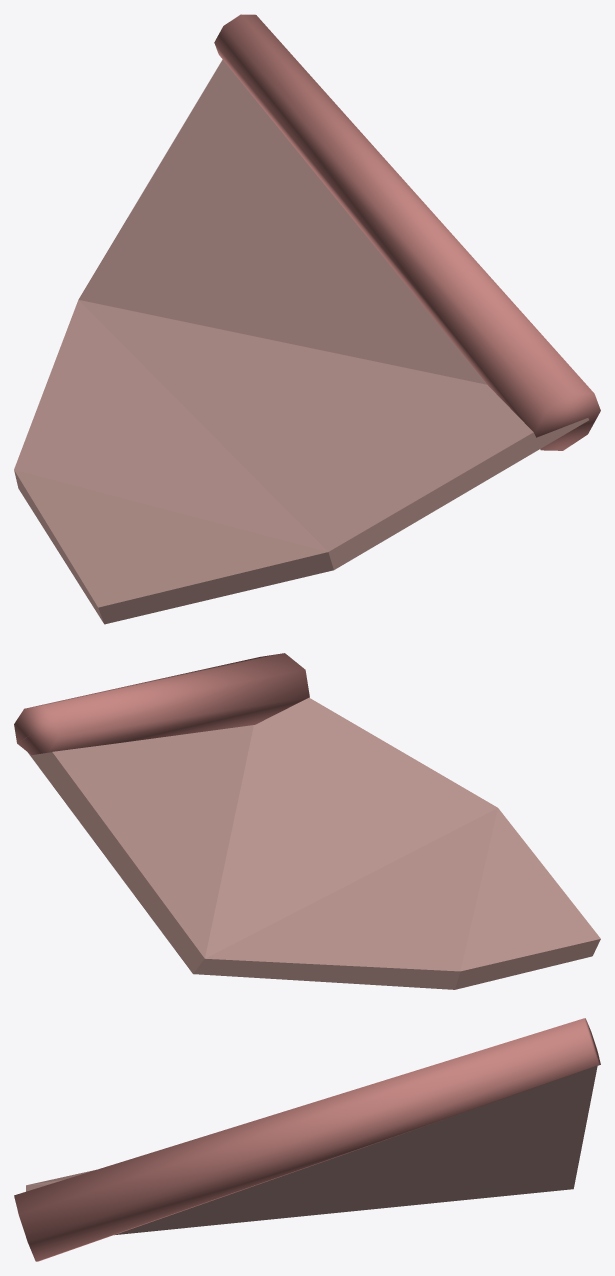
Rendered from bat_wing_in_L.glb.
3 views of the same model, one above another, from view 1: azimuth 30°, elevation 25°; view 2: azimuth 150°, elevation 25°; view 3: azimuth 270°, elevation 25° (orthographic). The views are drawn at different scales.
Visible parts, largest first — view 1: bat_wing_in_L; view 2: bat_wing_in_L; view 3: bat_wing_in_L.
Part boxes in pixels (x1=…): bat_wing_in_L: x1=14, y1=14, x2=600, y2=624; bat_wing_in_L: x1=14, y1=653, x2=600, y2=989; bat_wing_in_L: x1=14, y1=1018, x2=600, y2=1261.
Size of the model in its own units: 0.6498 by 0.4908 by 0.7771.
